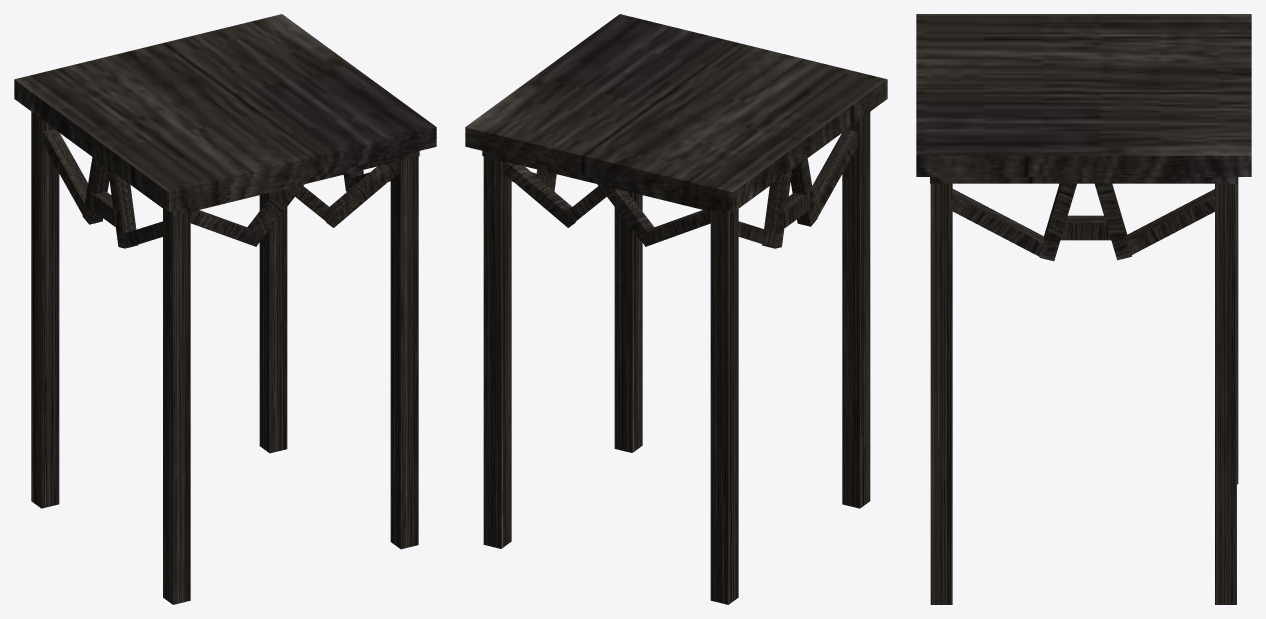
Rendered from SmallTableFinal.fbx.
The picture shows the model from 3 angles, left to right: view 1: azimuth 30°, elevation 25°; view 2: azimuth 150°, elevation 25°; view 3: azimuth 270°, elevation 25°; orthographic projection. The views are drawn at different scales.
Parts seen in each view (by area): view 1: pCube30, pCube5, pCube6, pCube7, pCube3, pCube29, pCube26; view 2: pCube30, pCube7, pCube3, pCube6, pCube5, pCube29, pCube28; view 3: pCube30, pCube5, pCube3, pCube27, pCube7.
Part boxes in pixels (left/top/right/bottom): pCube30: left=14, top=14, right=436, bottom=215; pCube5: left=390, top=156, right=418, bottom=549; pCube6: left=163, top=208, right=190, bottom=604; pCube7: left=31, top=111, right=59, bottom=508; pCube3: left=259, top=191, right=287, bottom=453; pCube29: left=43, top=129, right=162, bottom=248; pCube26: left=190, top=161, right=399, bottom=246; pCube30: left=465, top=14, right=887, bottom=214; pCube7: left=710, top=208, right=738, bottom=604; pCube3: left=483, top=156, right=511, bottom=548; pCube6: left=842, top=112, right=870, bottom=508; pCube5: left=614, top=191, right=642, bottom=452; pCube29: left=738, top=129, right=857, bottom=248; pCube28: left=502, top=161, right=710, bottom=246; pCube30: left=916, top=14, right=1251, bottom=183; pCube5: left=930, top=183, right=952, bottom=604; pCube3: left=1215, top=183, right=1236, bottom=604; pCube27: left=952, top=183, right=1214, bottom=261; pCube7: left=1237, top=177, right=1238, bottom=484.
Size of the model in its own units: 2.74 by 4.11 by 2.74.
